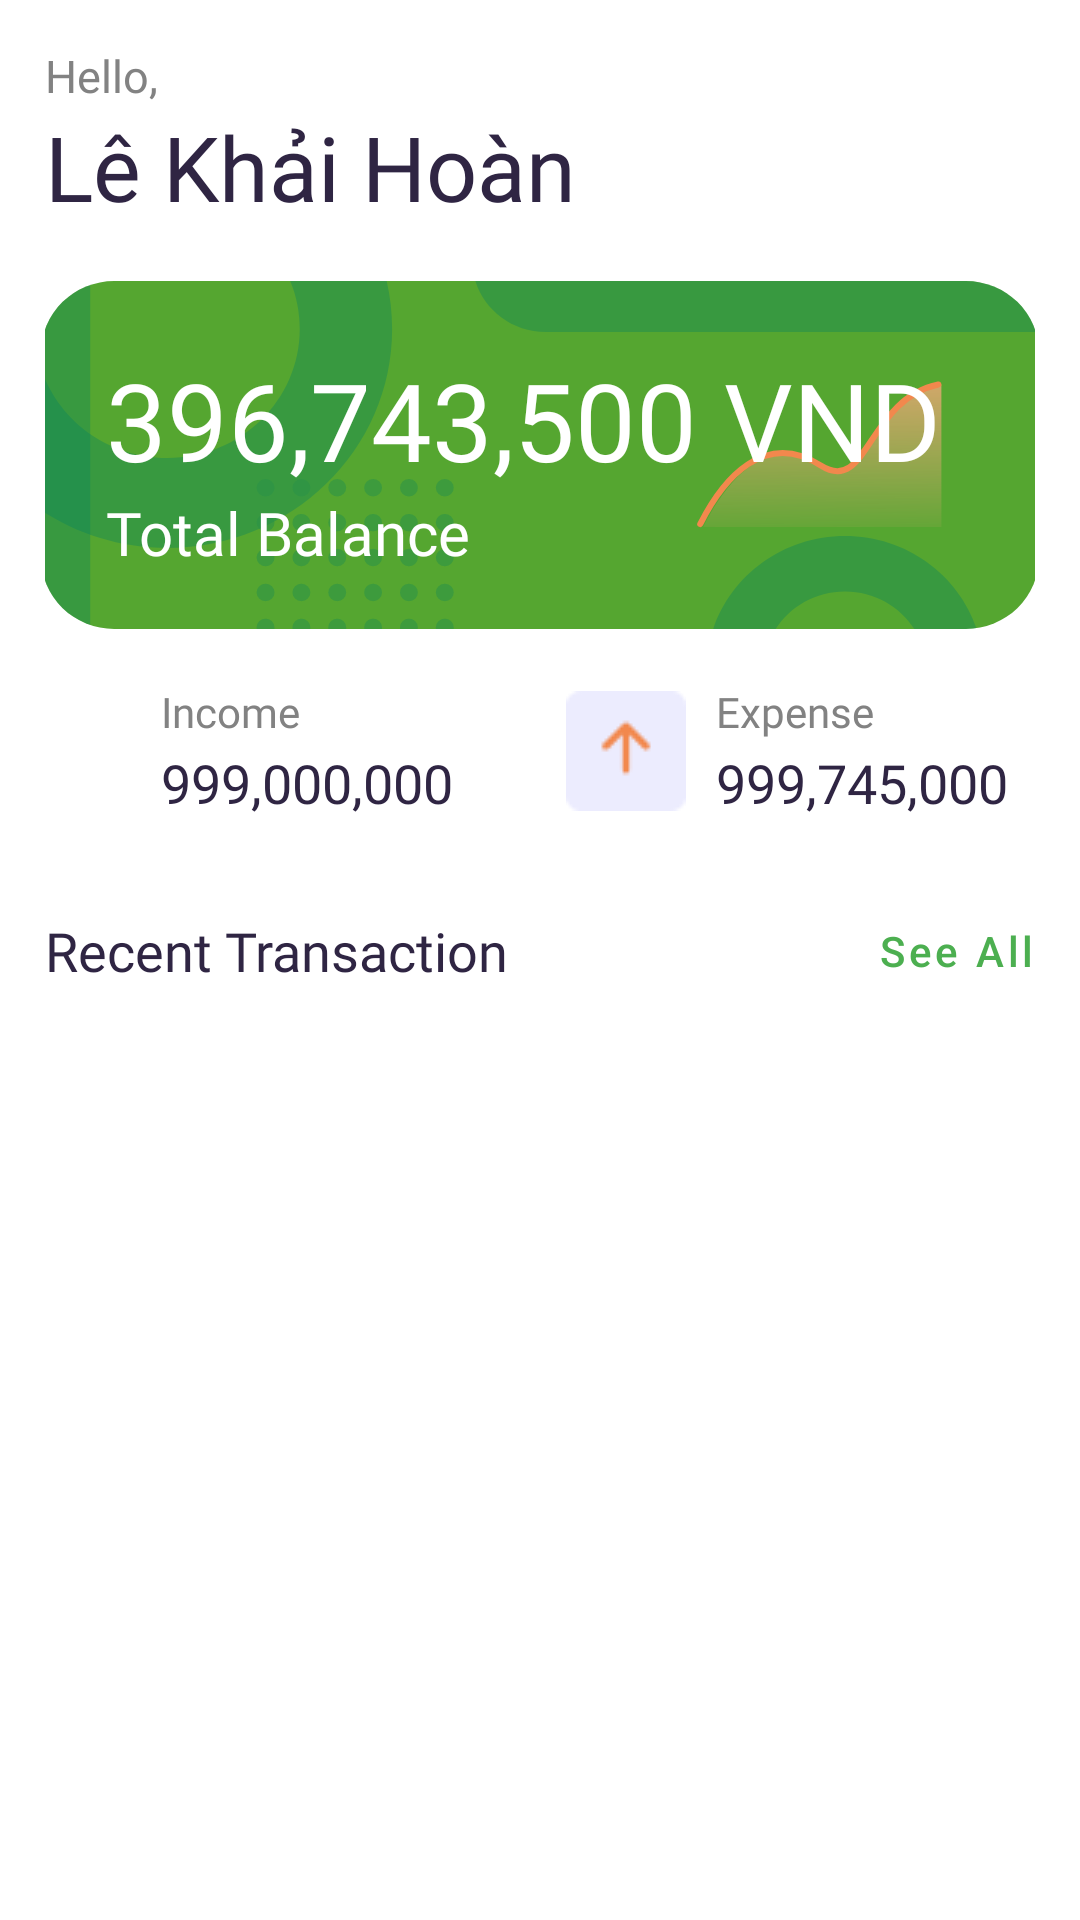

Named icons in this screenshot (1080px x 1920px) and their bounding boxes, {"x1": x1, "y1": y1, "x2": x2, "y2": y2}:
outcome: {"x1": 566, "y1": 691, "x2": 686, "y2": 811}
